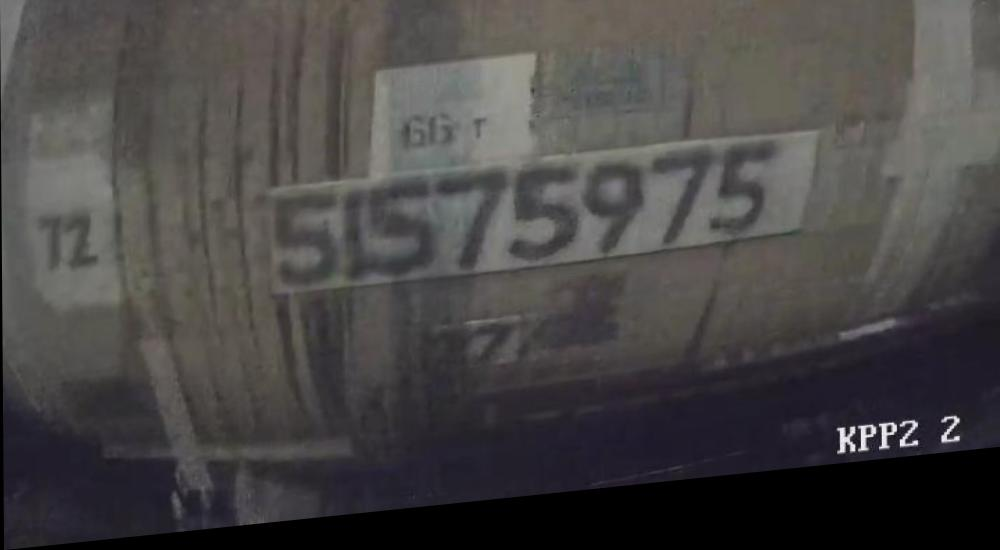Wagon-number: (272, 154, 781, 299)
